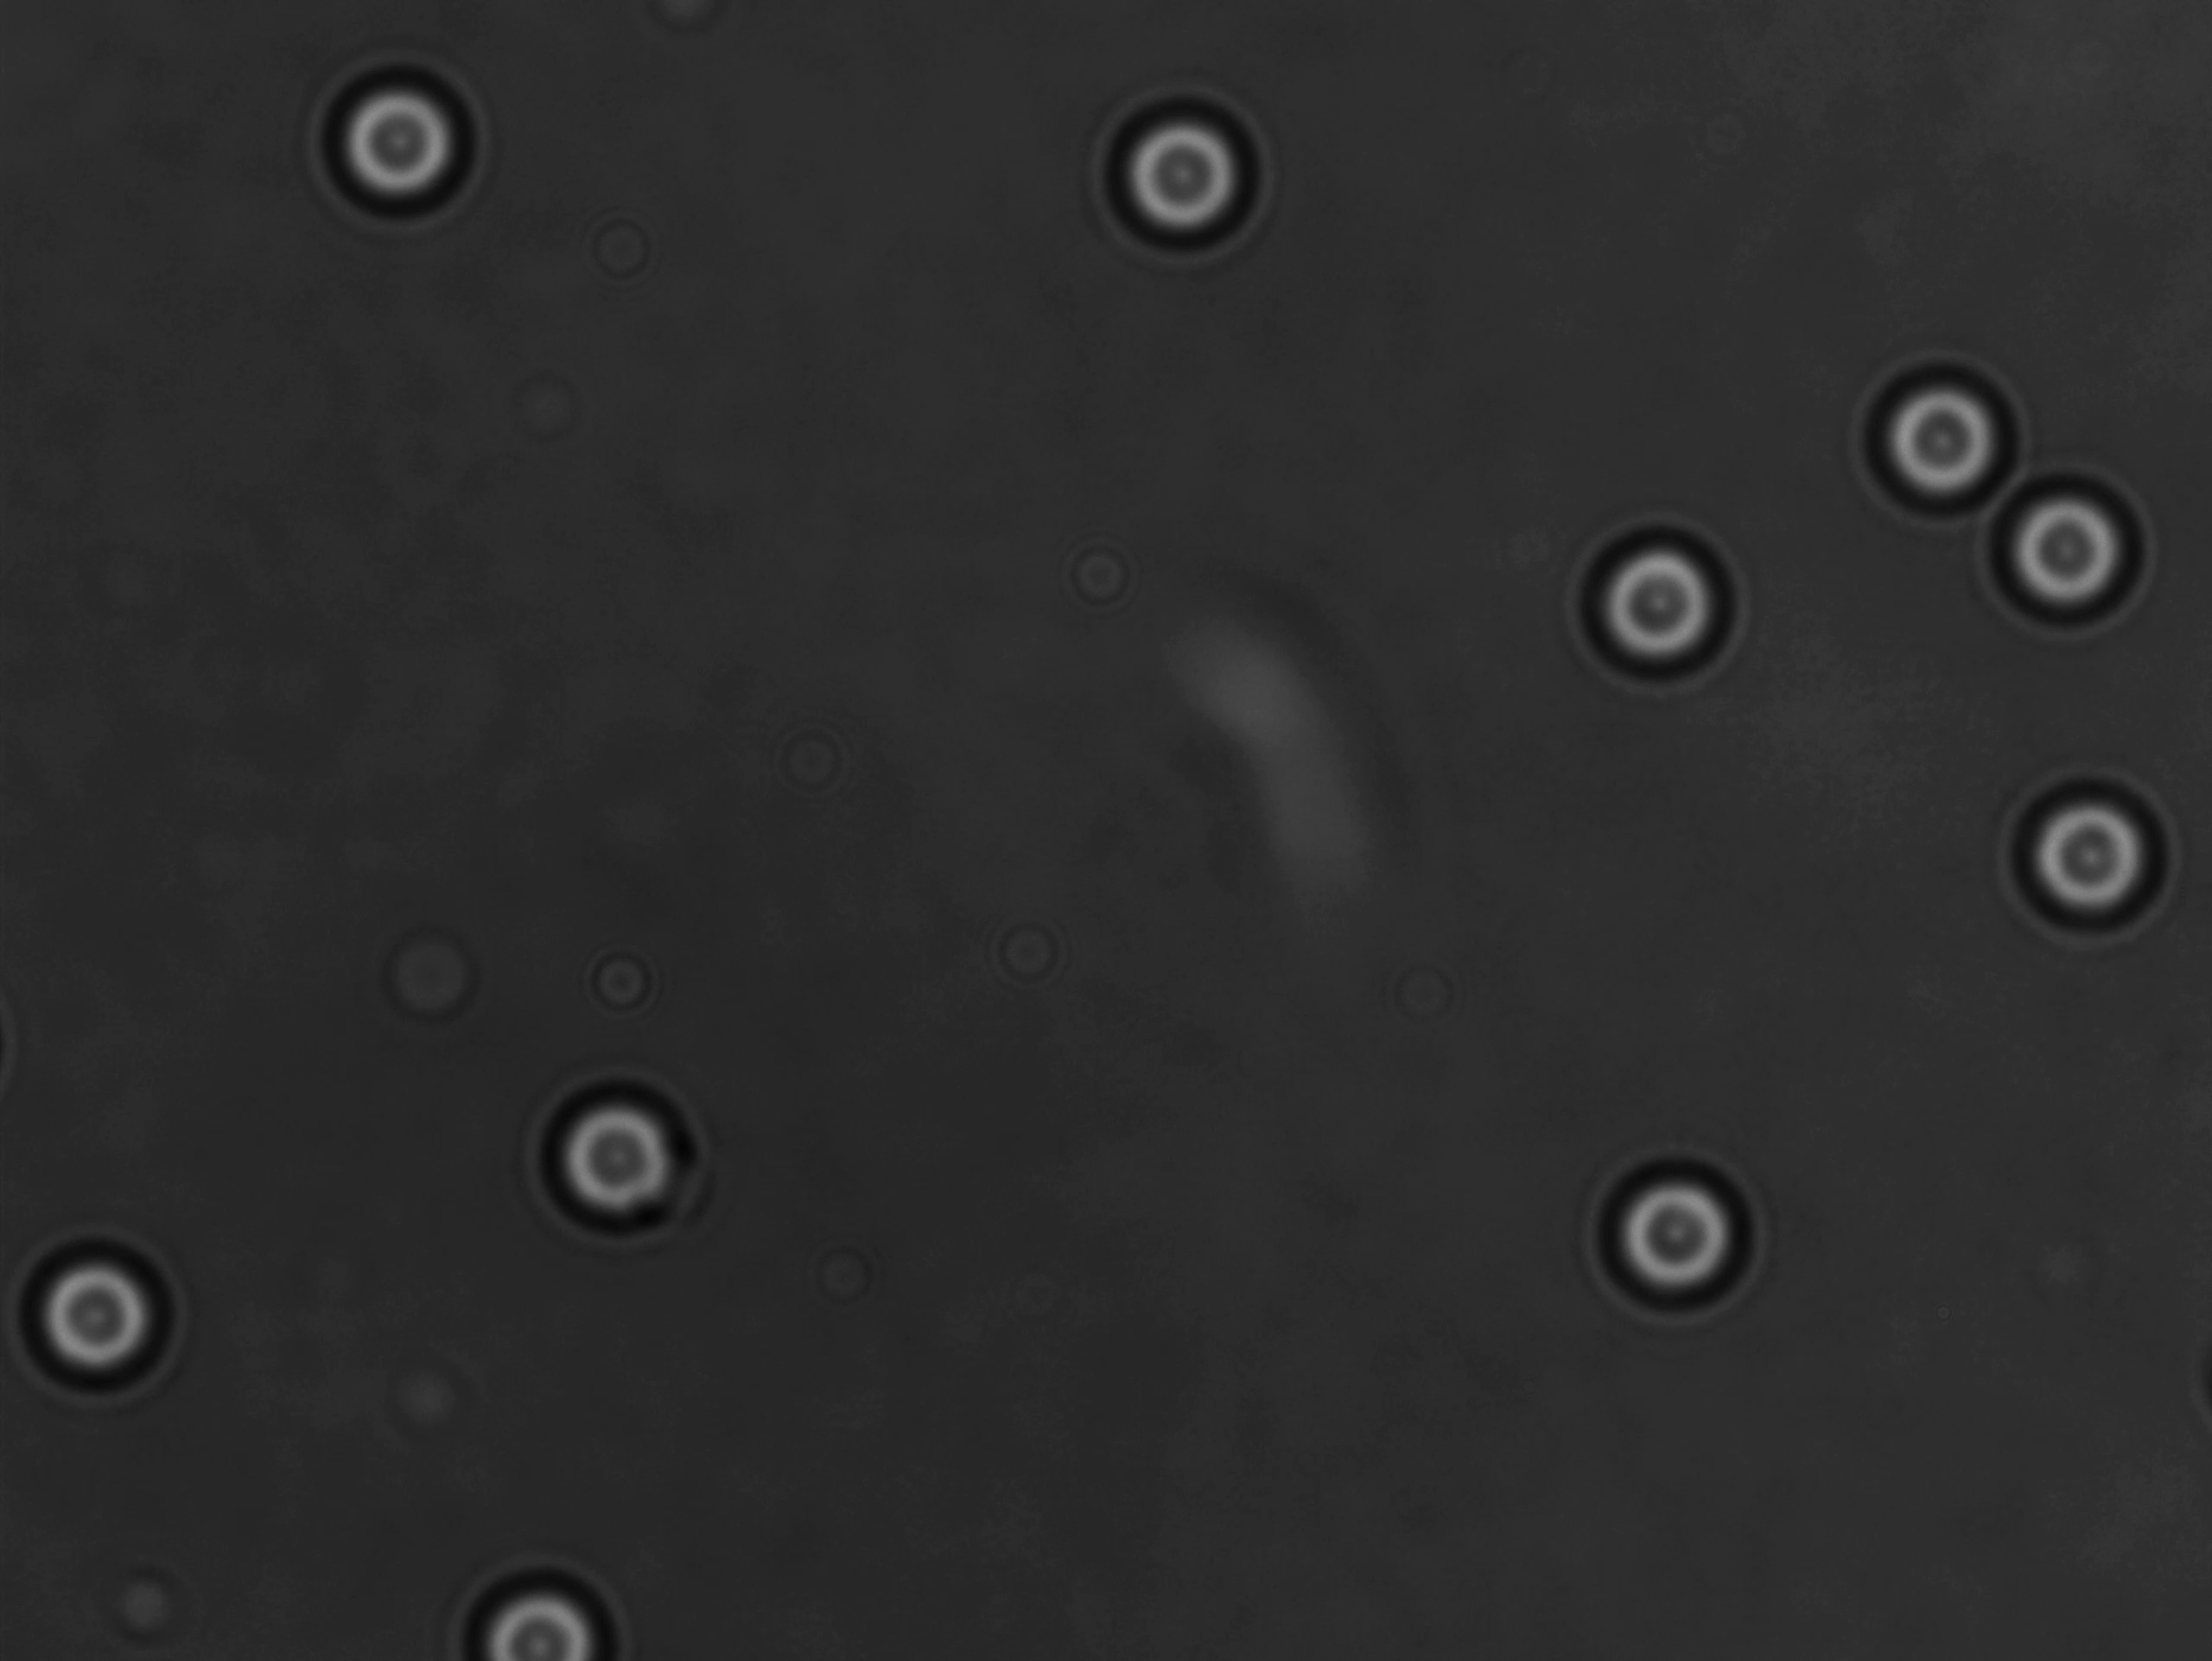depth:40: (302, 56, 509, 239), (523, 1075, 738, 1251), (1570, 1127, 1762, 1319), (1567, 508, 1757, 701), (14, 1225, 195, 1424), (1985, 448, 2168, 635), (2006, 755, 2191, 935), (1847, 356, 2022, 522), (1096, 96, 1272, 251), (452, 1553, 625, 1661)
